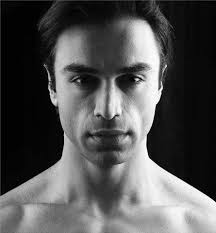middle_eastern_male: (44, 12, 173, 169)
